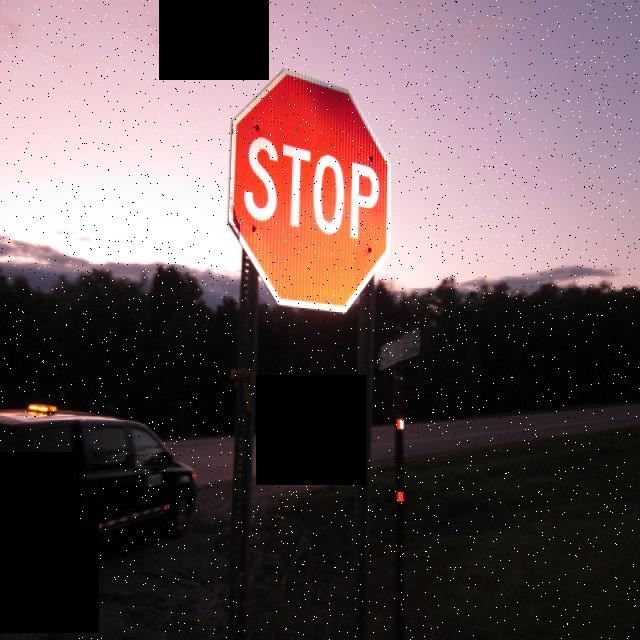stop: (221, 58, 397, 314)
